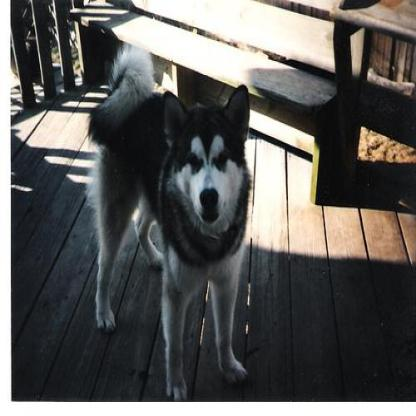malamute: (85, 40, 251, 402)
